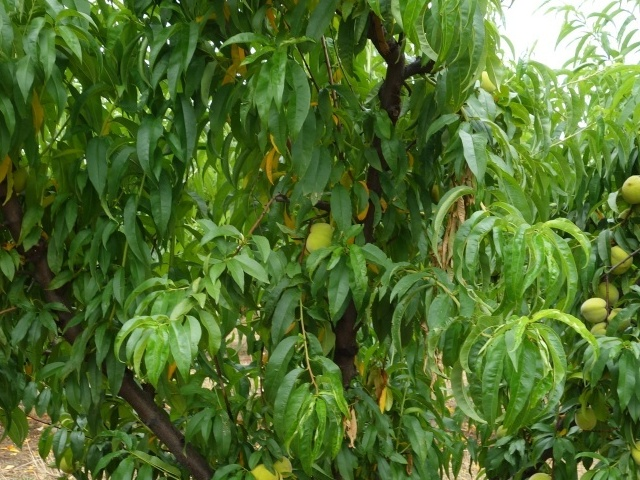peach: (298, 217, 341, 263), (607, 242, 639, 275), (580, 294, 611, 327), (617, 167, 640, 207), (595, 280, 622, 308), (575, 404, 600, 434), (601, 303, 628, 327), (587, 316, 613, 340), (277, 451, 297, 476)
